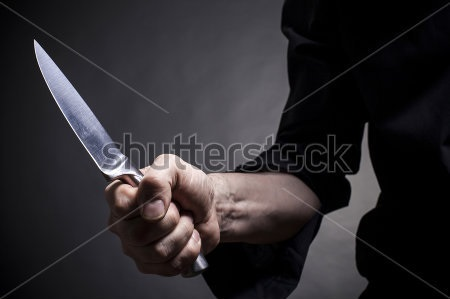knife: (28, 32, 195, 237)
